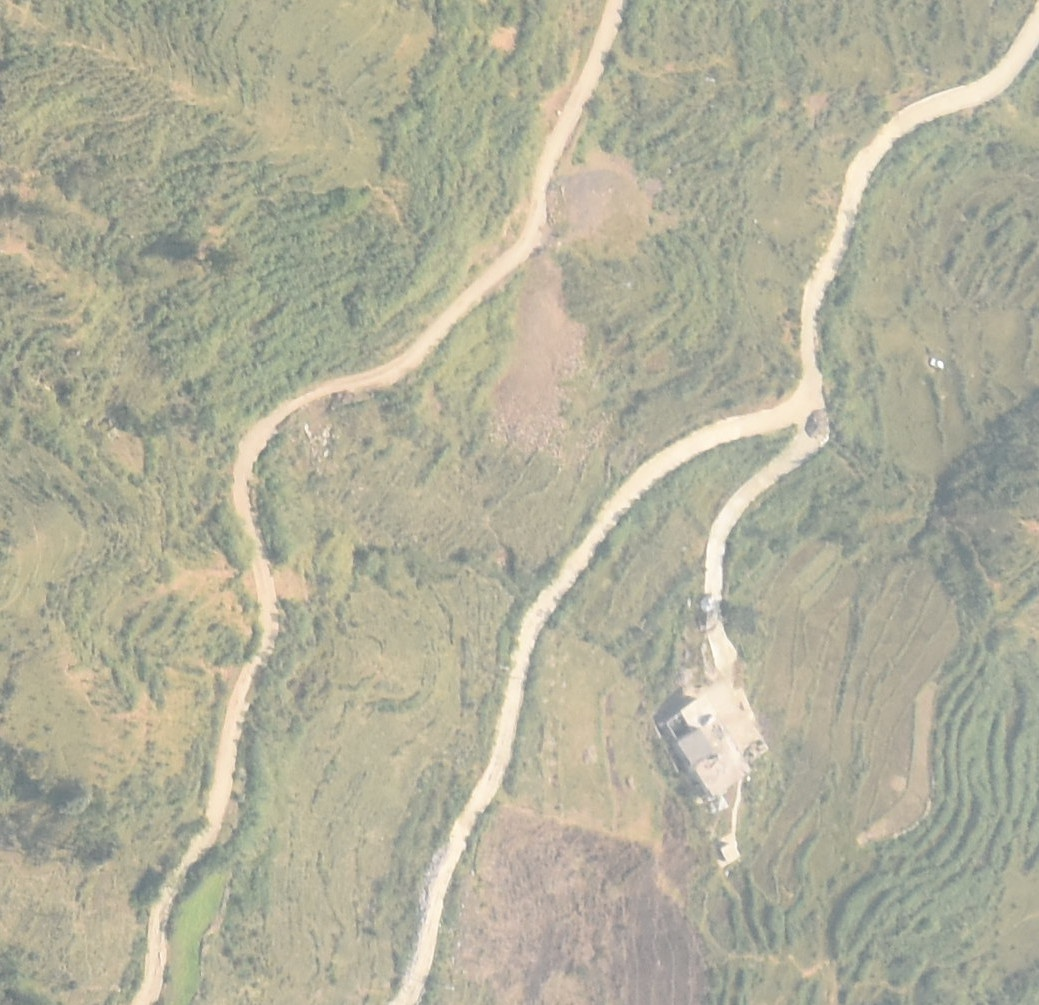building: (657, 694, 754, 801)
vehicle: (929, 355, 947, 371)
